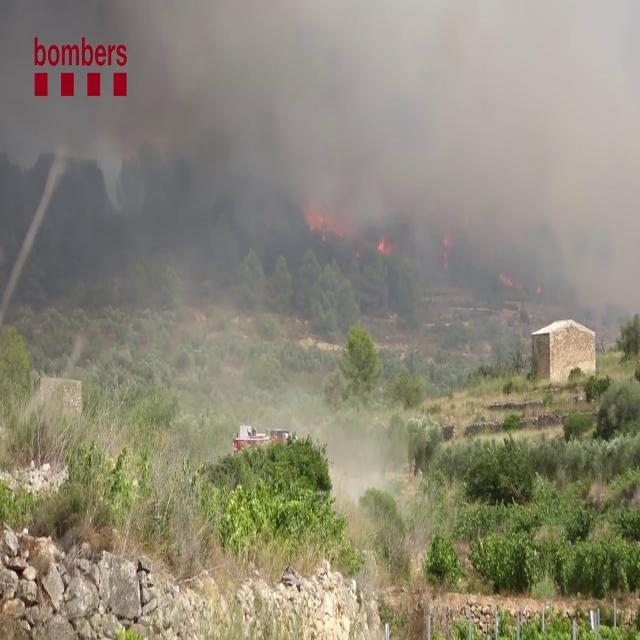Smoke: (14, 1, 638, 362)
